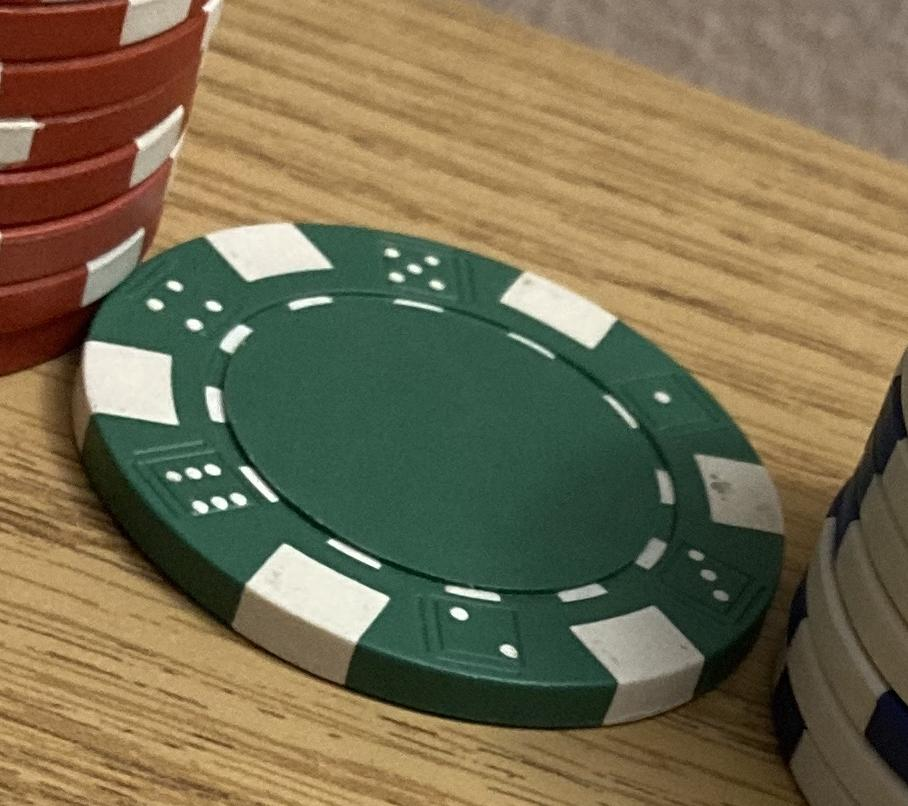Chip: (1, 1, 908, 806)
